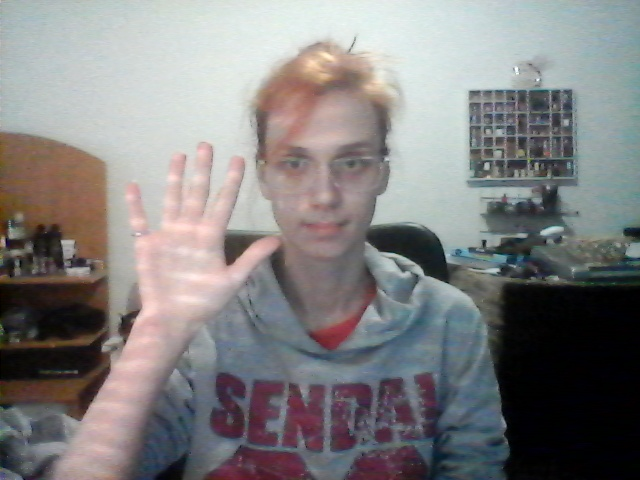ahoj: (104, 132, 289, 324)
